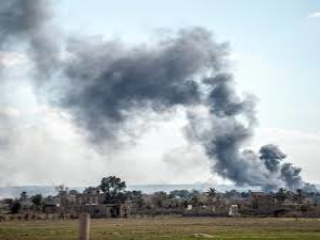smoke: (42, 29, 311, 188)
